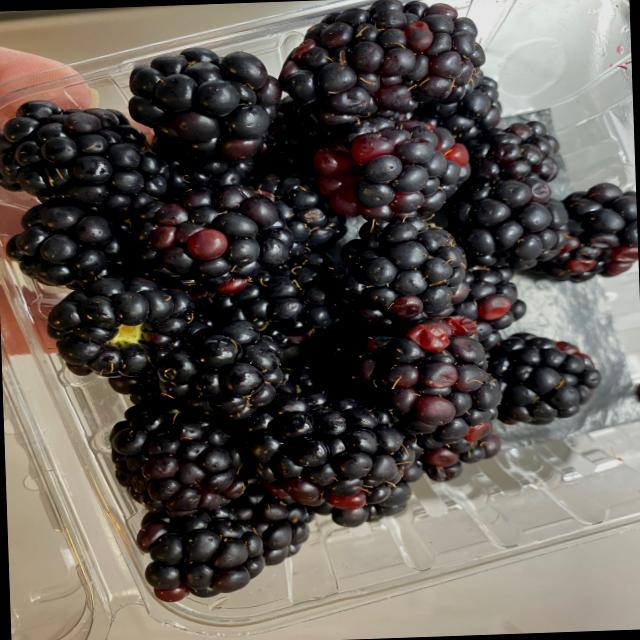blackberries: (12, 0, 615, 599)
